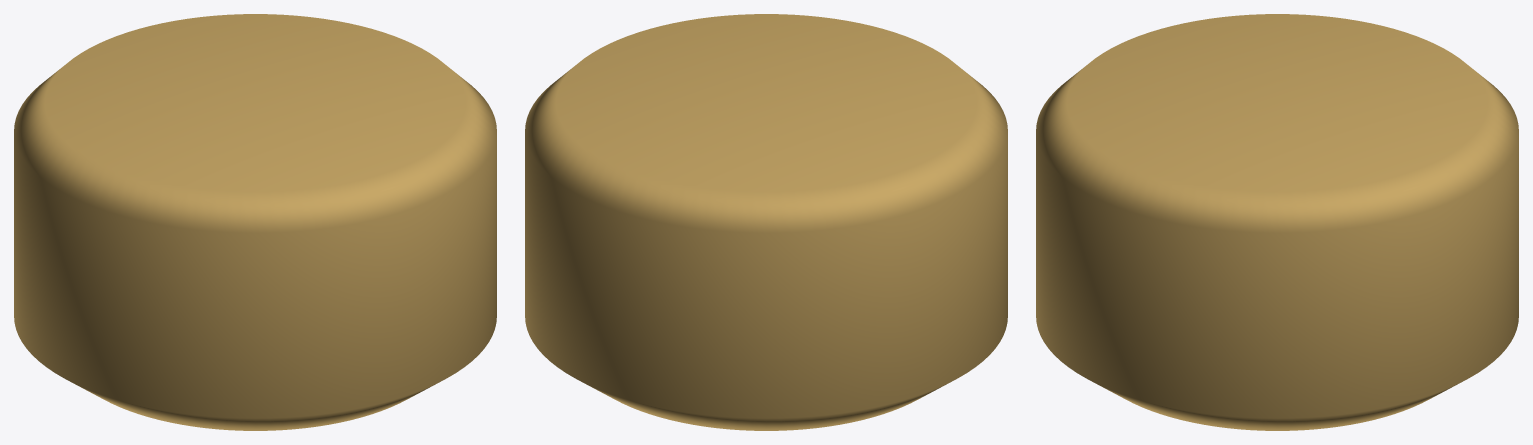
The model's file is black-tube-lid.glb.
The picture shows the model from 3 angles, left to right: view 1: azimuth 30°, elevation 25°; view 2: azimuth 150°, elevation 25°; view 3: azimuth 270°, elevation 25°; orthographic projection.
Size of the model in its own units: 0.78 by 0.44 by 0.78.
1 material, 1 textured.
